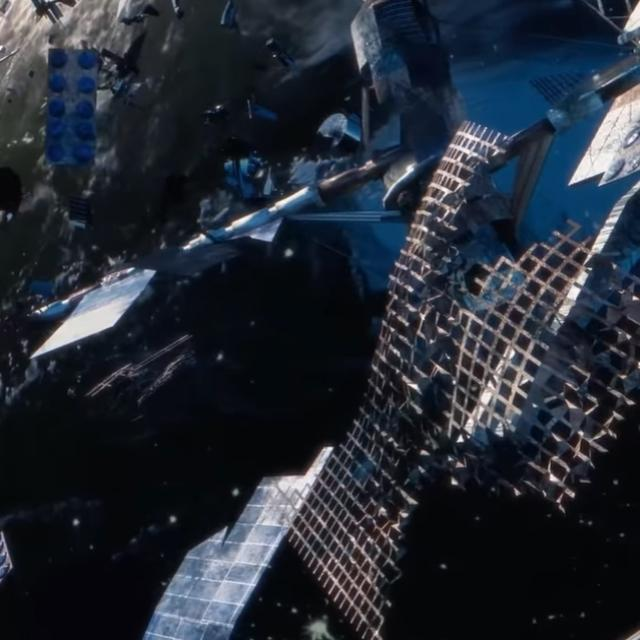large_debris: (20, 1, 640, 366), (269, 94, 640, 632), (124, 436, 337, 640), (24, 24, 113, 174)
